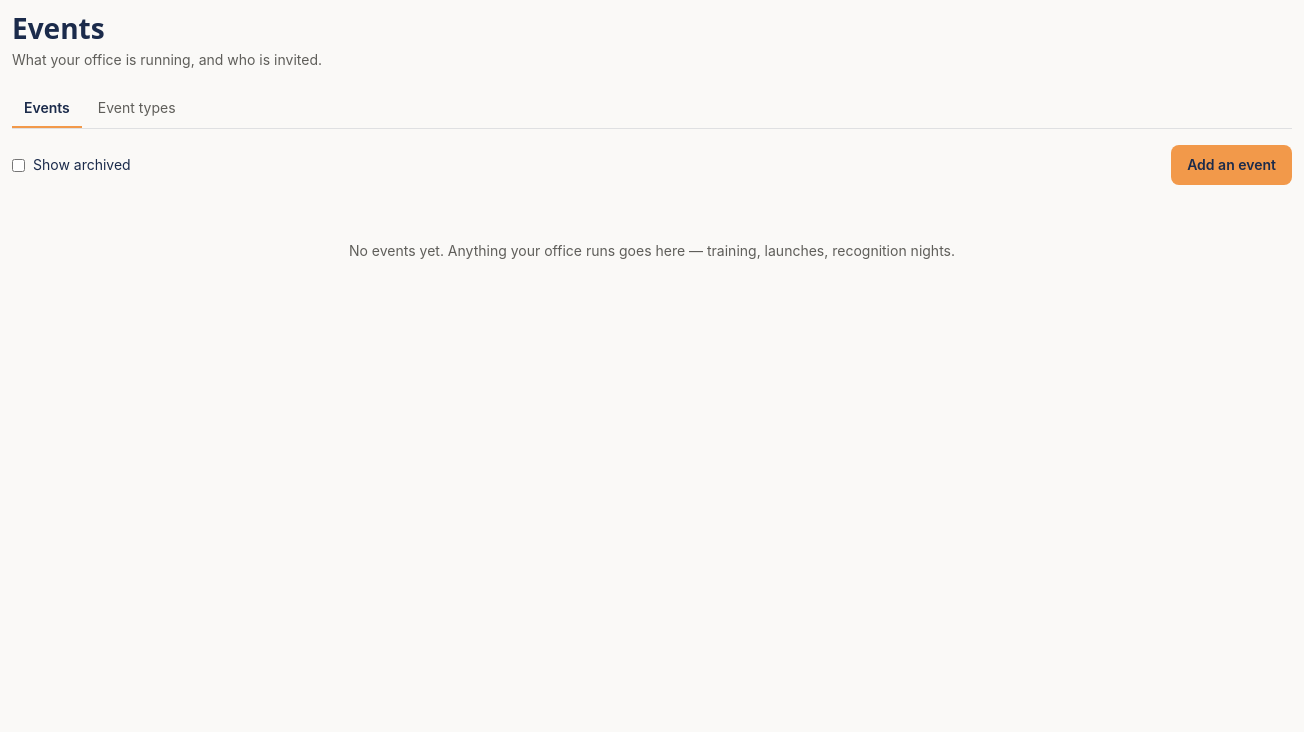
the office’s Events screen › will not let an event be added with no end time
Click the button "Add an event" at (1232, 165), box left=1171, top=145, right=1292, bottom=185
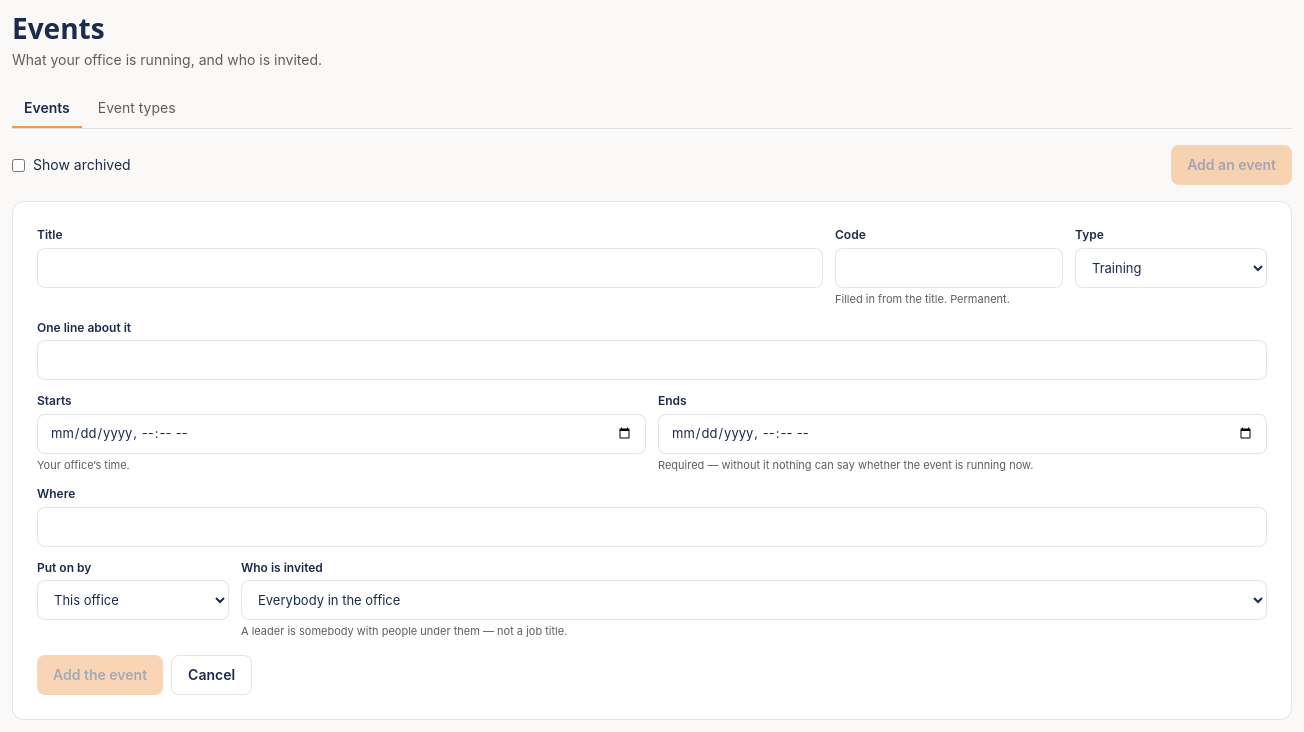
Type "Kickoff" into the field labelled "Title" at (430, 268), box left=37, top=248, right=823, bottom=288
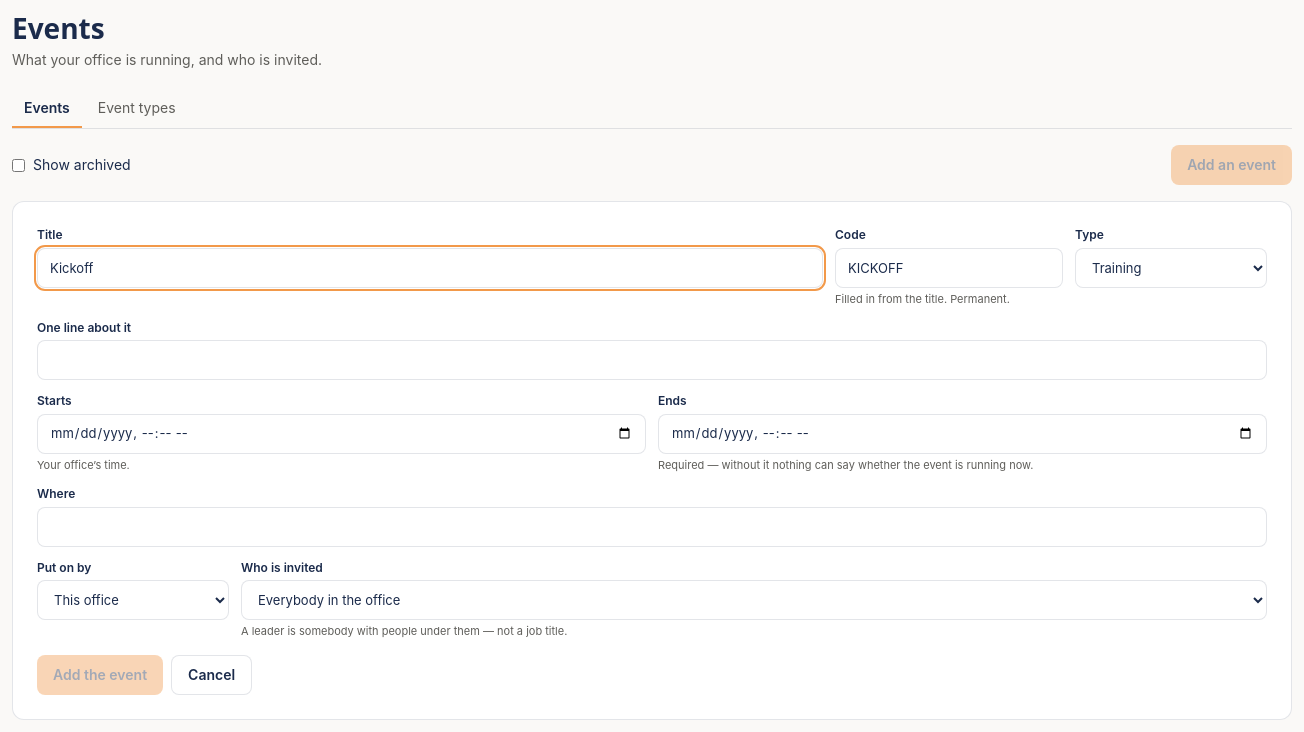
Type "2026-10-01T09:00" into the field labelled "Starts" at (342, 434), box left=37, top=414, right=646, bottom=454
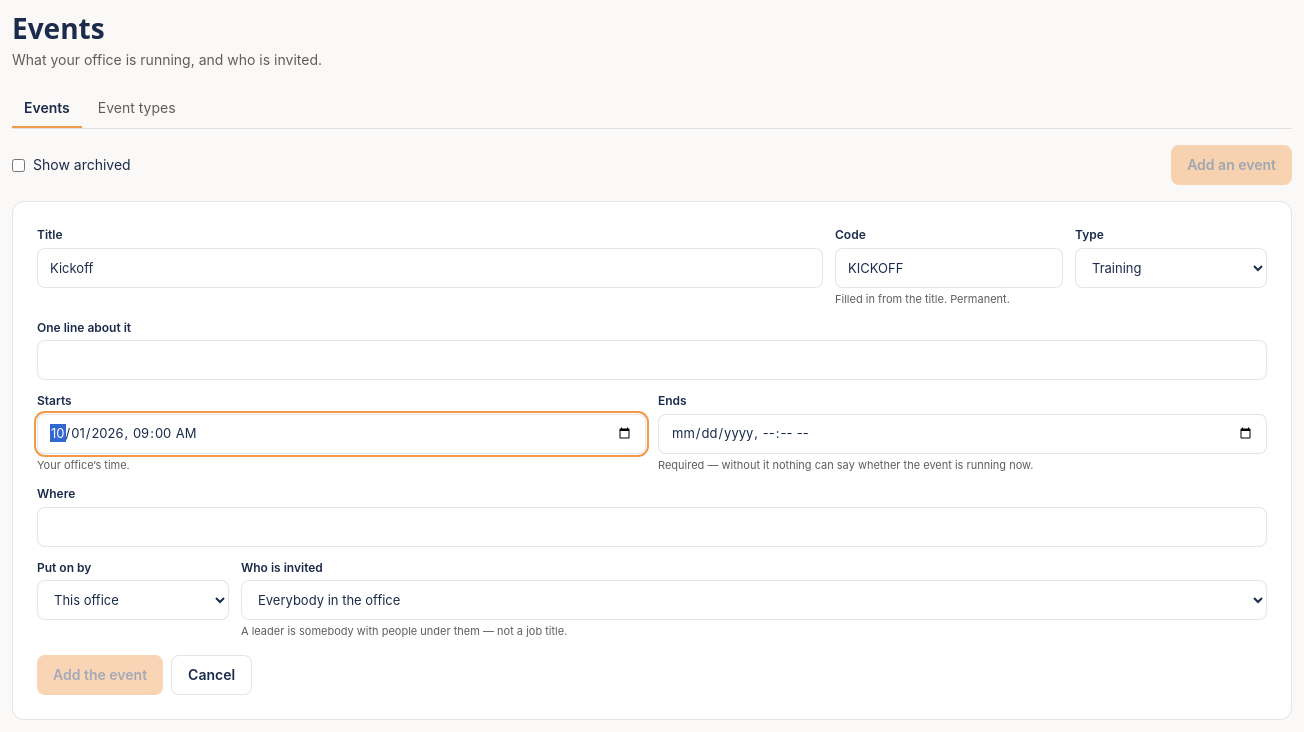
Now the button "Add the event" is disabled, box left=37, top=655, right=163, bottom=695
Type "2026-10-01T13:00" into the field labelled "Ends" at (962, 434), box left=658, top=414, right=1267, bottom=454
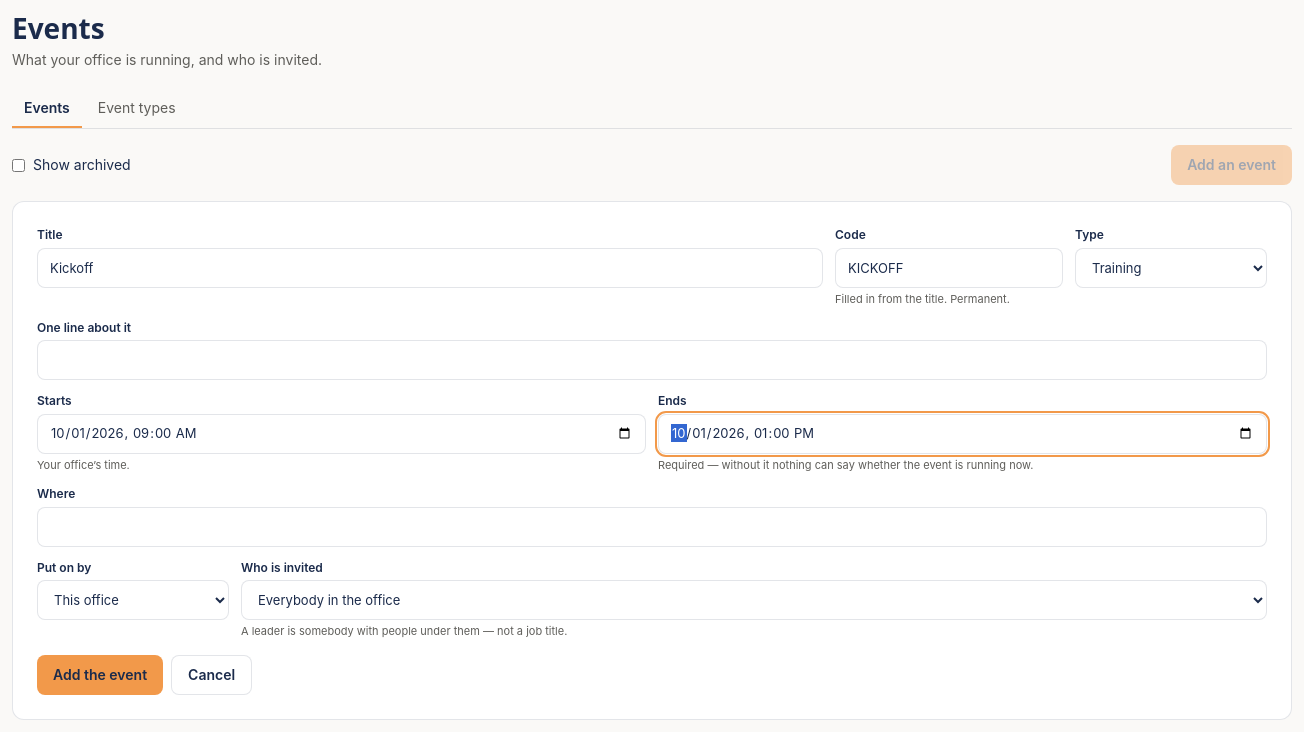
Now the button "Add the event" is enabled, box left=37, top=655, right=163, bottom=695
